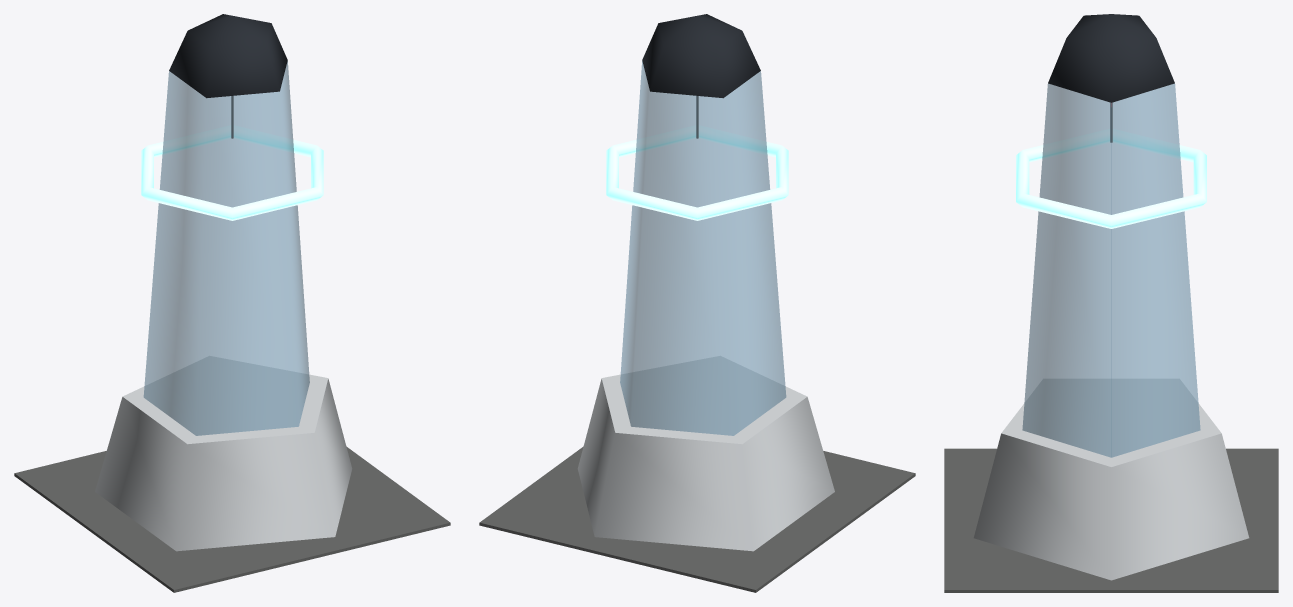
The model's file is bld_special_command_center_a08_lod2.glb.
The picture shows the model from 3 angles, left to right: view 1: azimuth 30°, elevation 25°; view 2: azimuth 150°, elevation 25°; view 3: azimuth 270°, elevation 25°; orthographic projection. The views are drawn at different scales.
Visible parts, largest first — view 1: body; view 2: body; view 3: body.
Boxes of the visible parts, box(x1,y1,x2,y2) form: body: box(14, 14, 450, 592); body: box(479, 14, 915, 592); body: box(944, 14, 1278, 592).
Size of the model in its own units: 15 by 25.15 by 15.
